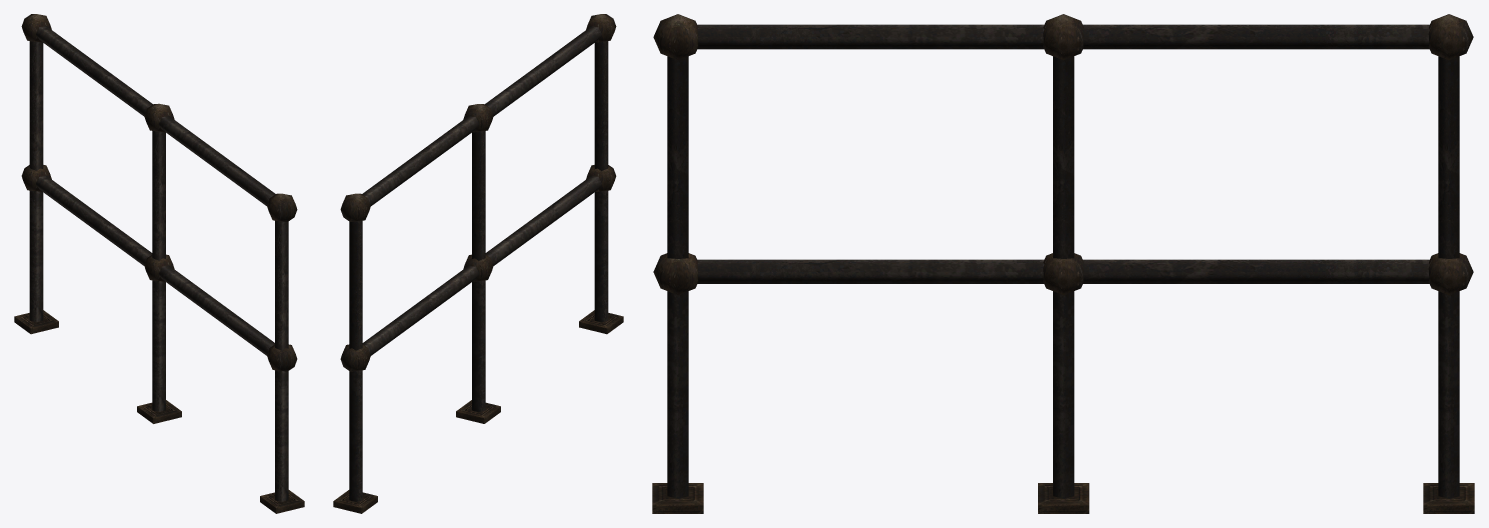
Rendered from railings_factory_2m_dirty.DAE.
3 renders of one model, left to right at view 1: azimuth 30°, elevation 25°; view 2: azimuth 150°, elevation 25°; view 3: azimuth 270°, elevation 25°, orthographic. The views are drawn at different scales.
Parts seen in each view (by area): view 1: Object135; view 2: Object135; view 3: Object135.
Boxes of the visible parts, box(x1,y1,x2,y2) form: Object135: box(14, 14, 304, 513); Object135: box(333, 14, 623, 513); Object135: box(652, 14, 1474, 513).
Size of the model in its own units: 0.125 by 1.31 by 2.
